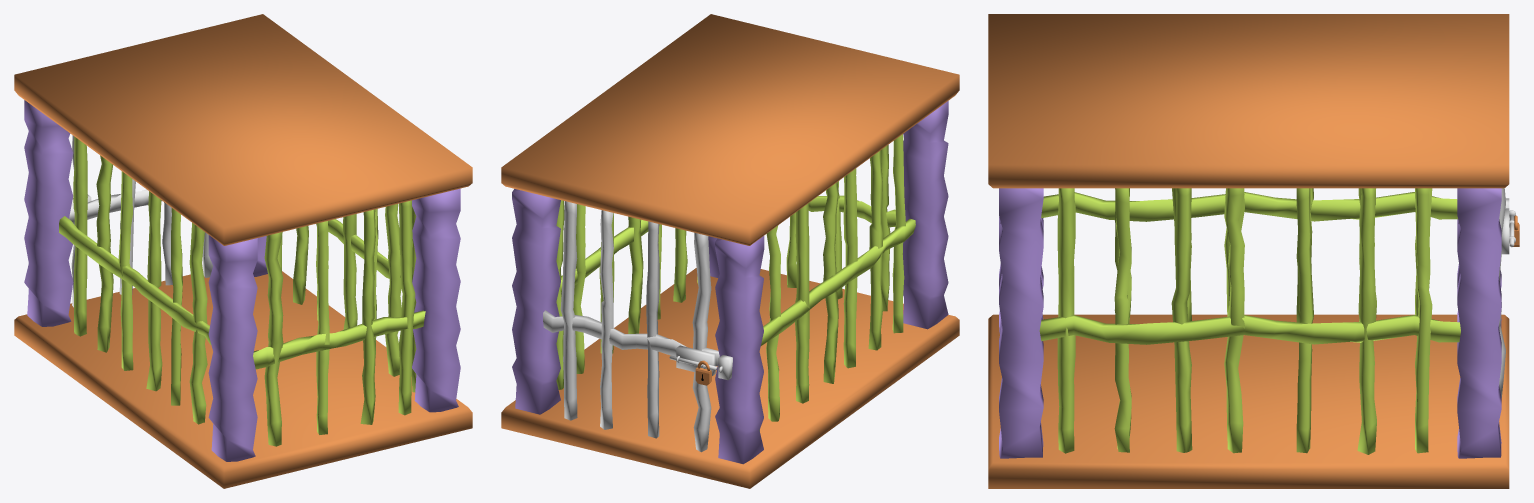
The model's file is jailCell2.fbx.
3 views of the same model, side by side, from view 1: azimuth 30°, elevation 25°; view 2: azimuth 150°, elevation 25°; view 3: azimuth 270°, elevation 25° (orthographic). The views are drawn at different scales.
Parts seen in each view (by area): view 1: JailCell, Door; view 2: JailCell, Door, Cylinder.002; view 3: JailCell, Cylinder.002, Door.
Part boxes in pixels (x1,y1,x2,y2): JailCell: (14,14,472,488); Door: (69,135,212,307); JailCell: (501,14,959,488); Door: (543,201,719,452); Cylinder.002: (669,345,732,380); JailCell: (988,14,1509,488); Cylinder.002: (1501,198,1515,254); Door: (1498,188,1505,397).
Bounding box in the file's own units: 302 × 302 × 449.
